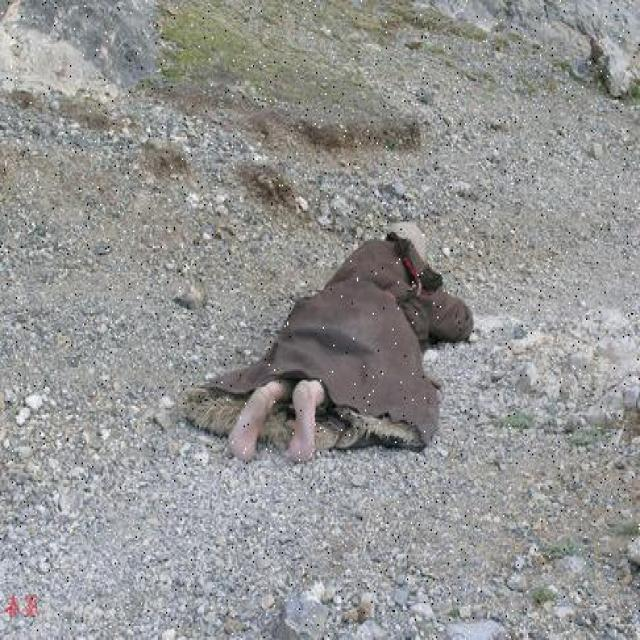fall: (223, 223, 454, 457)
